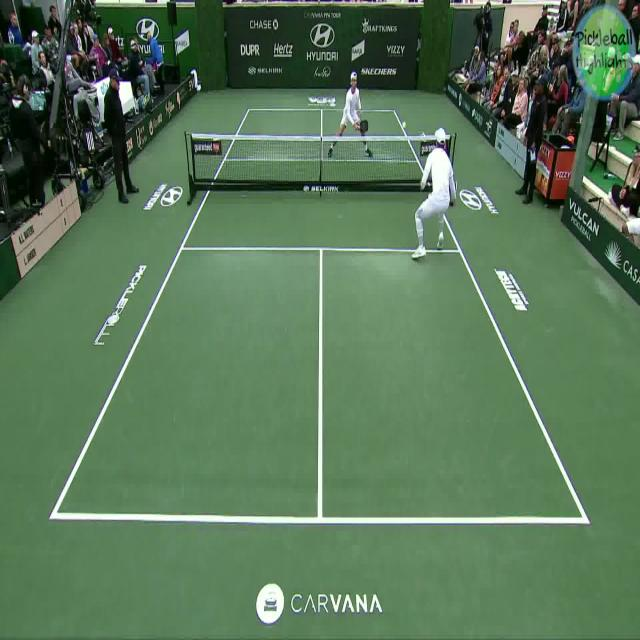ball: (396, 115, 411, 134)
